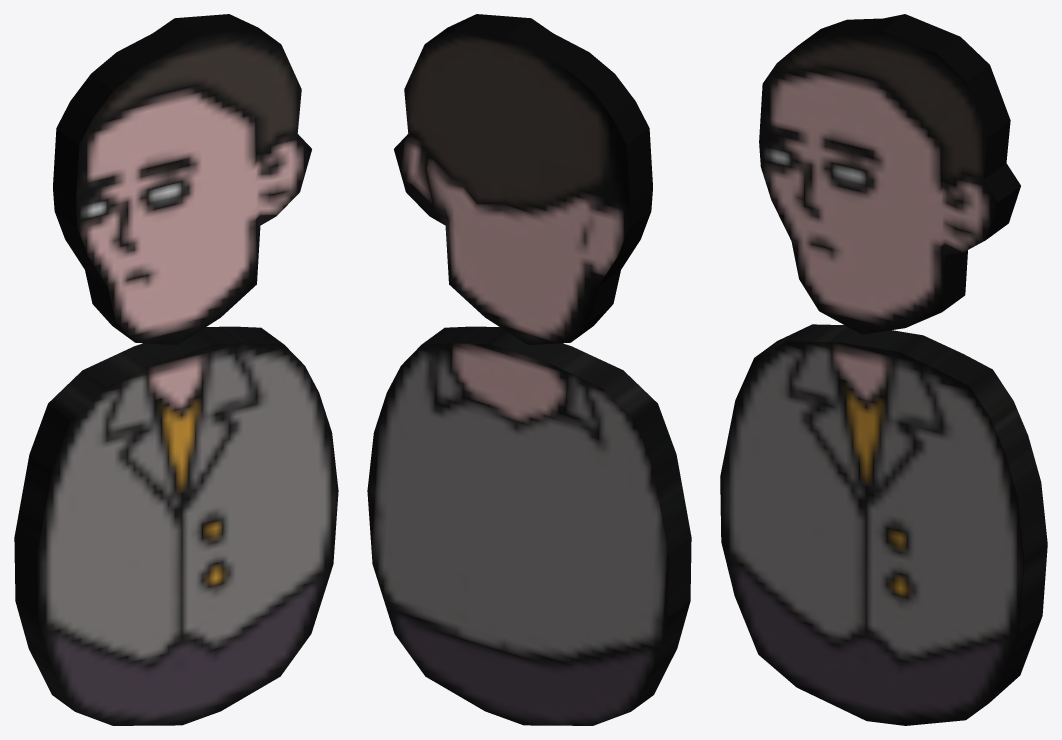
File: Camicia_uomo1.fbx
The picture shows the model from 3 angles, left to right: view 1: azimuth 30°, elevation 25°; view 2: azimuth 150°, elevation 25°; view 3: azimuth 330°, elevation 25°; orthographic projection.
Parts seen in each view (by area): view 1: polySurface7; view 2: polySurface7; view 3: polySurface7.
Part boxes in pixels (left/top/right/bottom): polySurface7: left=14, top=14, right=338, bottom=725; polySurface7: left=367, top=14, right=691, bottom=725; polySurface7: left=720, top=14, right=1047, bottom=725.
Bounding box in the file's own units: 0.2938 × 0.64 × 0.0388.
